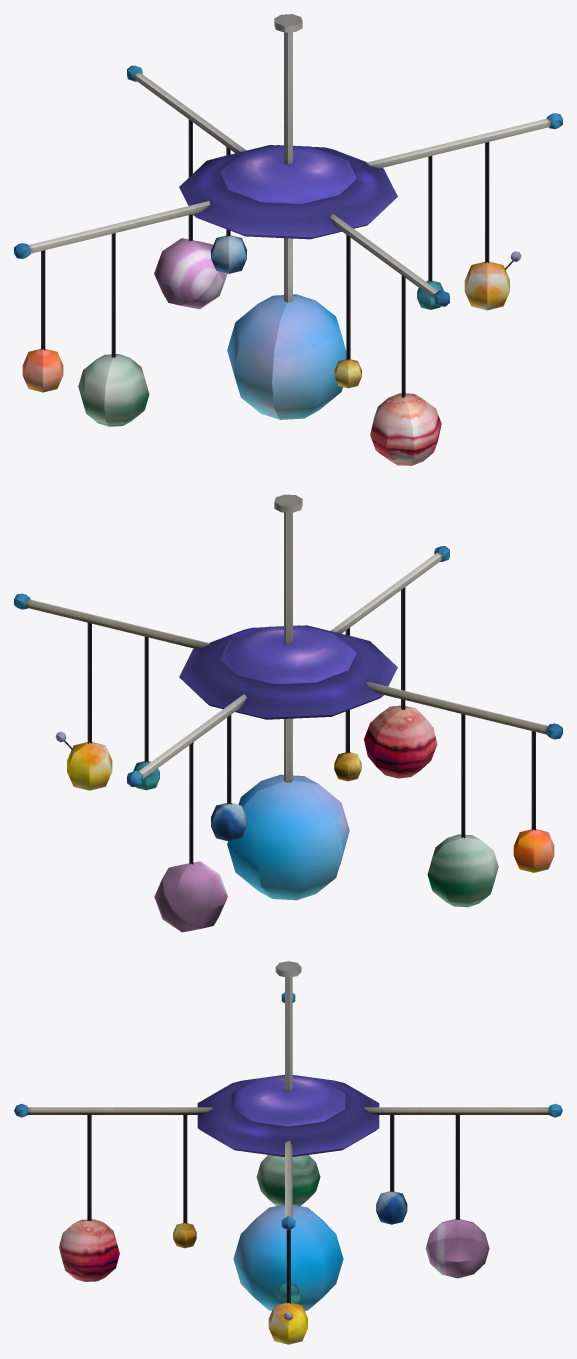
File: lamparaSistemaSolar_textura.fbx
3 views of the same model, one above another, from view 1: azimuth 30°, elevation 25°; view 2: azimuth 150°, elevation 25°; view 3: azimuth 270°, elevation 25° (orthographic). The views are drawn at different scales.
Parts seen in each view (by area): view 1: s4studio_mesh_1; view 2: s4studio_mesh_1; view 3: s4studio_mesh_1.
Part boxes in pixels (x1=…): s4studio_mesh_1: x1=14, y1=14, x2=562, y2=465; s4studio_mesh_1: x1=14, y1=494, x2=562, y2=932; s4studio_mesh_1: x1=14, y1=961, x2=562, y2=1344.
Size of the model in its own units: 102 by 69.84 by 102.
Materials: 1 (1 with a texture image).
